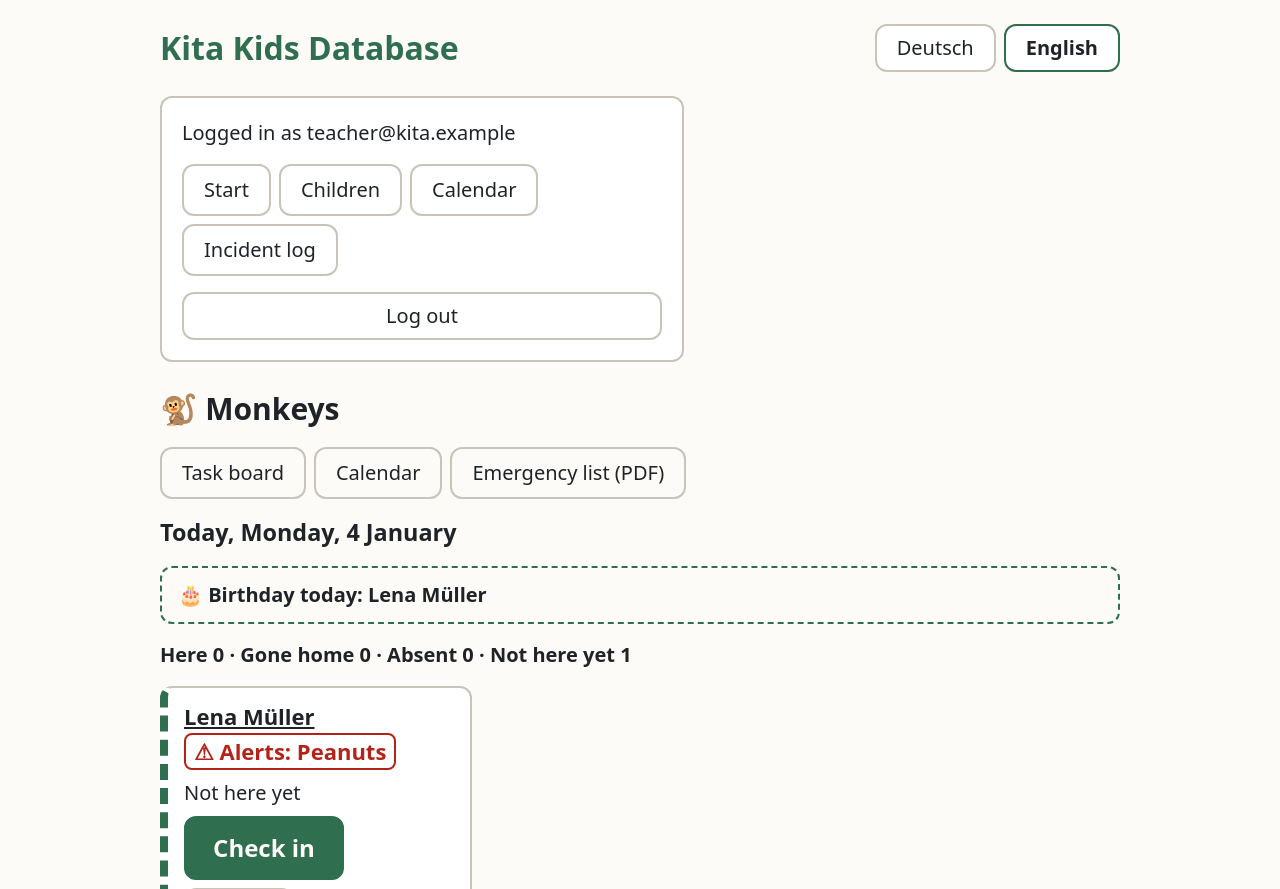
Test case: Today view › says why a step could not be done
What coordinates should you click on to do the following:
click the button with aria-label "Check in Lena Müller"
I would click on:
 (264, 848)
Its box is [184,816,344,880].
(page scrolled)
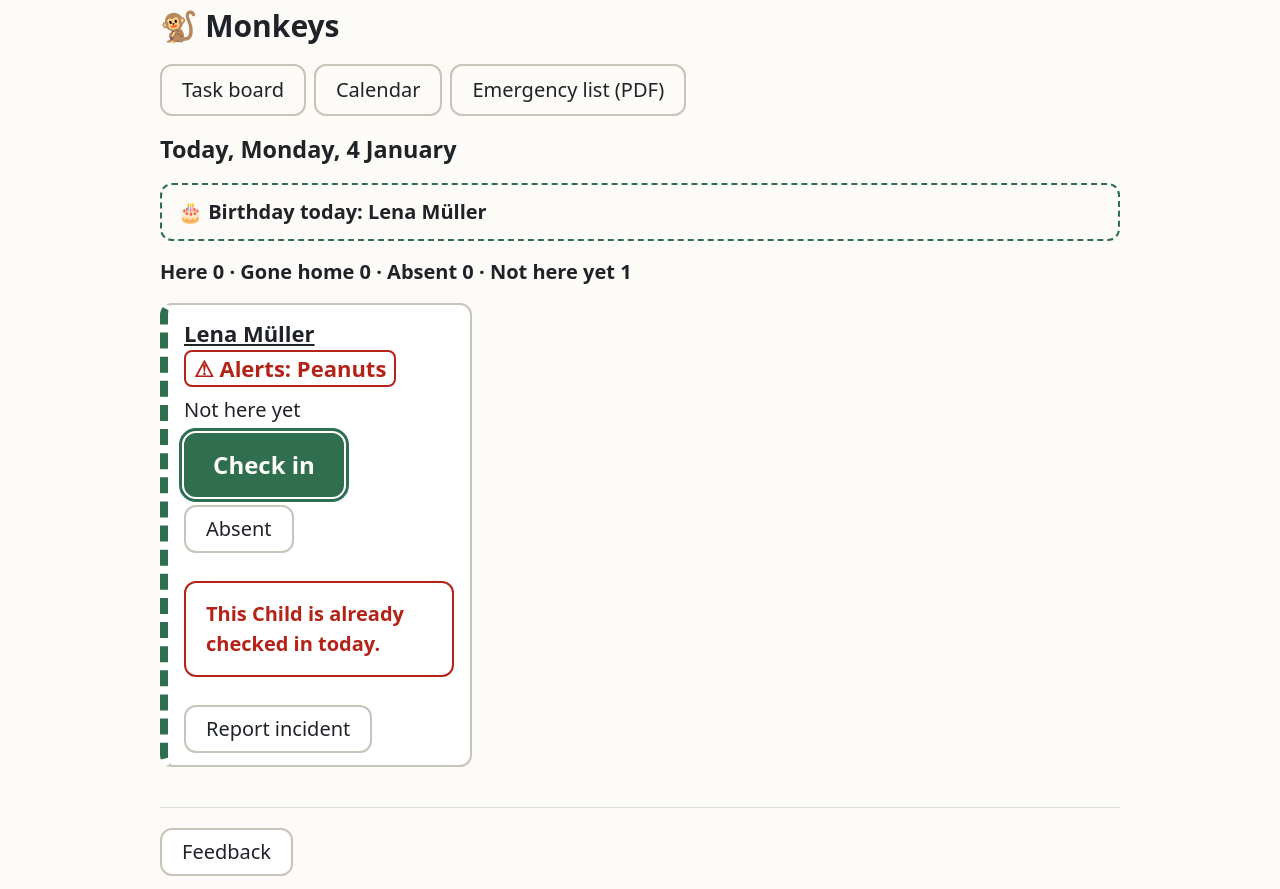
Result: the message shows "already checked in today" at [206,600,404,657]
